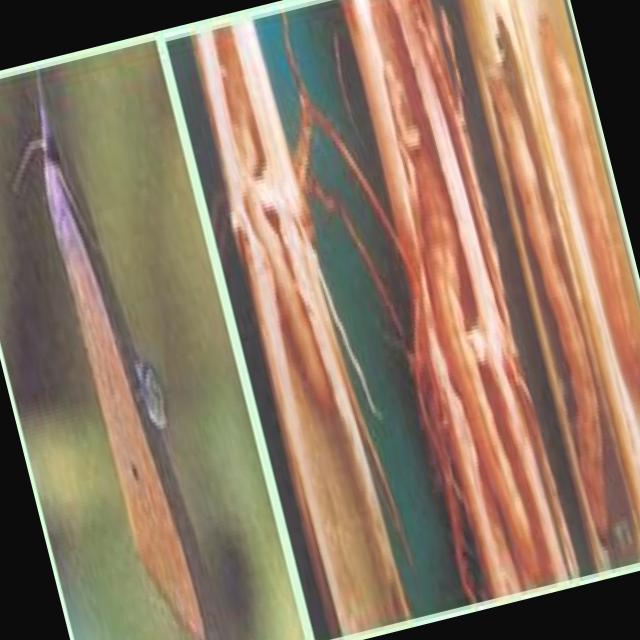stem borer: (194, 0, 577, 633), (461, 0, 640, 569), (40, 110, 204, 639)
